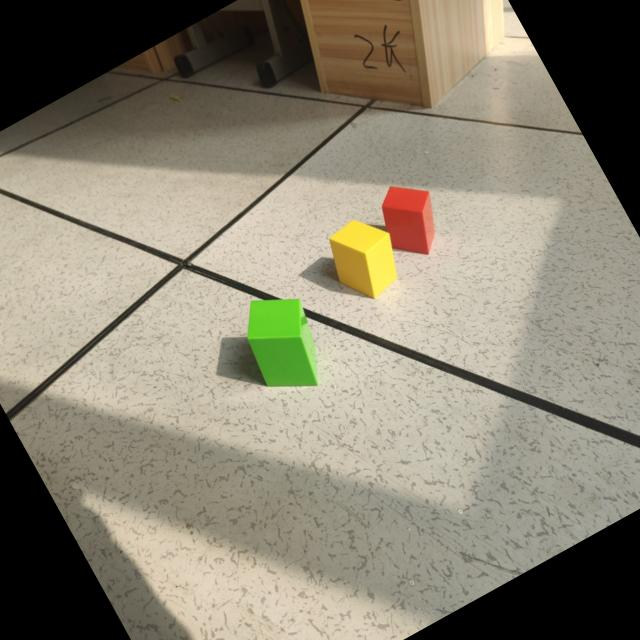green: (240, 299, 319, 389)
red: (382, 184, 438, 252)
yellow: (330, 221, 399, 300)
